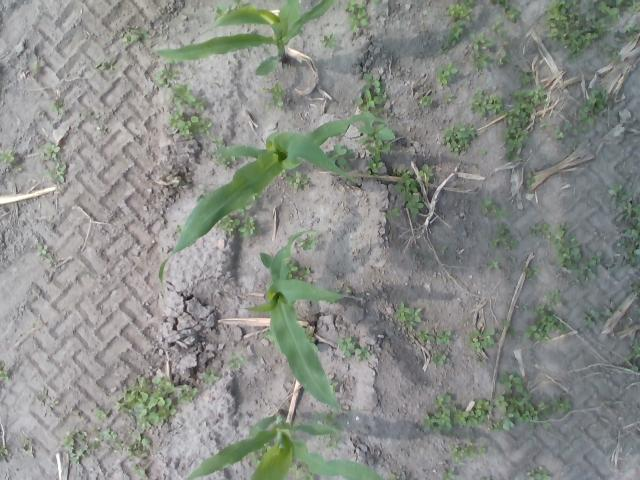Maize: (158, 111, 386, 282), (242, 230, 359, 414), (181, 410, 388, 480), (152, 0, 336, 75)
Weeds: (544, 0, 612, 63), (502, 84, 551, 162), (114, 374, 178, 430), (421, 394, 493, 437), (492, 370, 540, 432), (608, 184, 640, 266), (357, 111, 395, 177), (521, 300, 568, 344), (392, 167, 425, 216), (548, 223, 582, 270), (352, 73, 388, 114), (166, 108, 212, 138), (442, 123, 479, 158), (576, 88, 608, 126), (590, 0, 640, 23), (170, 82, 207, 111), (60, 428, 88, 464), (438, 20, 466, 54), (469, 88, 503, 116), (213, 0, 256, 22), (574, 252, 604, 283), (341, 0, 370, 32), (393, 301, 421, 332), (554, 122, 586, 146), (258, 81, 286, 108), (490, 223, 518, 250), (466, 327, 496, 352), (326, 143, 354, 169), (490, 0, 523, 22), (125, 432, 152, 458), (476, 198, 508, 219), (450, 440, 478, 464), (444, 0, 474, 22), (284, 258, 312, 280), (250, 441, 274, 465), (436, 60, 460, 84), (582, 307, 614, 325), (311, 409, 338, 430), (213, 215, 241, 235), (624, 338, 640, 372), (286, 461, 314, 480), (238, 216, 262, 237), (285, 170, 310, 190), (300, 327, 320, 352), (123, 25, 150, 43), (154, 67, 176, 89), (334, 337, 356, 358), (0, 150, 22, 170), (44, 163, 66, 183), (600, 41, 620, 62), (470, 32, 494, 49), (178, 384, 198, 404), (621, 22, 640, 42), (91, 59, 118, 73), (36, 244, 54, 264), (200, 368, 220, 386), (40, 142, 60, 160), (228, 352, 247, 370), (297, 232, 316, 250), (472, 51, 490, 70), (526, 466, 550, 480), (498, 319, 516, 337), (216, 154, 236, 170), (492, 50, 512, 66), (552, 398, 572, 414), (529, 222, 551, 236), (414, 329, 434, 344), (627, 276, 640, 298), (489, 21, 508, 36), (354, 345, 370, 362), (130, 464, 148, 479), (524, 172, 540, 188), (537, 400, 552, 417), (420, 164, 434, 181), (0, 361, 10, 384), (325, 434, 340, 449), (384, 207, 401, 220), (196, 184, 208, 202), (544, 288, 562, 300), (432, 350, 446, 365), (321, 34, 336, 48), (236, 203, 252, 216), (101, 428, 118, 440), (435, 332, 452, 344), (523, 266, 539, 278), (418, 94, 432, 107), (442, 467, 456, 480), (50, 102, 65, 114), (20, 446, 34, 458), (520, 72, 534, 84), (262, 330, 274, 343), (212, 137, 226, 148), (95, 408, 106, 420), (113, 441, 124, 453), (444, 92, 456, 103), (328, 380, 338, 393), (488, 260, 501, 270), (542, 419, 554, 428), (0, 445, 10, 455), (32, 60, 40, 72), (92, 438, 100, 450), (389, 472, 400, 480), (252, 192, 262, 200), (480, 147, 488, 156), (174, 226, 182, 234), (478, 446, 486, 454), (344, 285, 352, 292), (440, 246, 447, 253), (292, 419, 300, 425), (280, 168, 286, 176), (326, 300, 338, 304), (332, 288, 339, 294), (372, 0, 382, 4), (481, 477, 492, 480), (472, 164, 478, 169), (96, 126, 102, 130)
